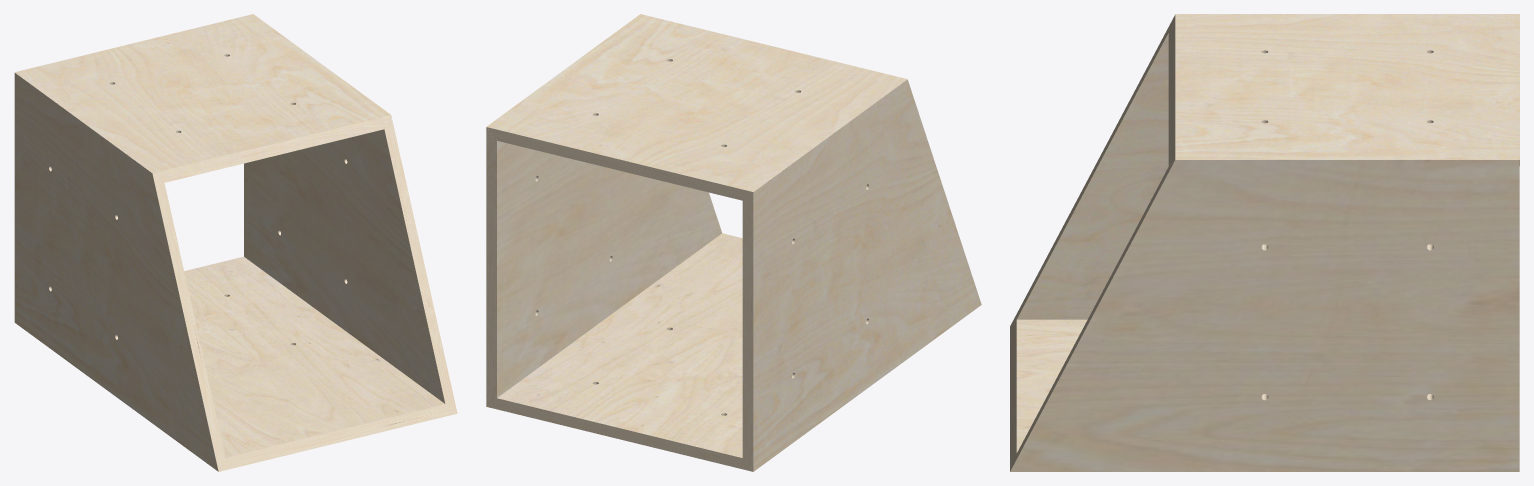
The picture shows the model from 3 angles, left to right: view 1: azimuth 30°, elevation 25°; view 2: azimuth 150°, elevation 25°; view 3: azimuth 270°, elevation 25°; orthographic projection. The views are drawn at different scales.
Parts seen in each view (by area): view 1: Cube.003, Cube, Cube.001, Cube.002; view 2: Cube.003, Cube, Cube.001, Cube.002; view 3: Cube.001, Cube, Cube.003, Cube.002.
Part boxes in pixels (x1,y1,x2,y2): Cube.003: (14, 73, 225, 471); Cube: (15, 14, 390, 182); Cube.001: (244, 115, 457, 413); Cube.002: (184, 256, 456, 471); Cube.003: (742, 79, 981, 471); Cube: (486, 14, 907, 200); Cube.001: (486, 127, 721, 406); Cube.002: (486, 233, 752, 471); Cube.001: (1010, 159, 1519, 471); Cube: (1168, 14, 1519, 165); Cube.003: (1010, 16, 1430, 325); Cube.002: (1010, 319, 1430, 471).
Bounding box in the file's own units: 0.25 × 0.2502 × 0.3701.
Materials: 4 (4 with a texture image).
